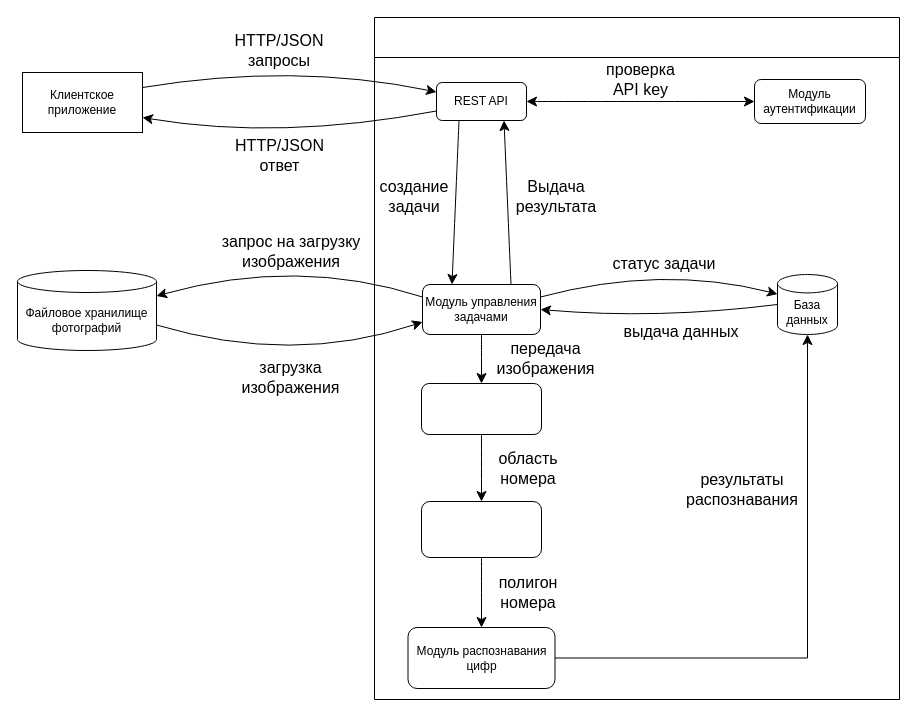
Image size: 917x717. Some labels were removed from this diagram. The box of each missing label's shape, as (x1, y1, x2, y2) in pixels:
Модуль детекции номера: (420, 382, 542, 434)
Модуль уточнения полигона: (420, 500, 542, 558)
Серверное приложение распознавания: (374, 16, 900, 700)
